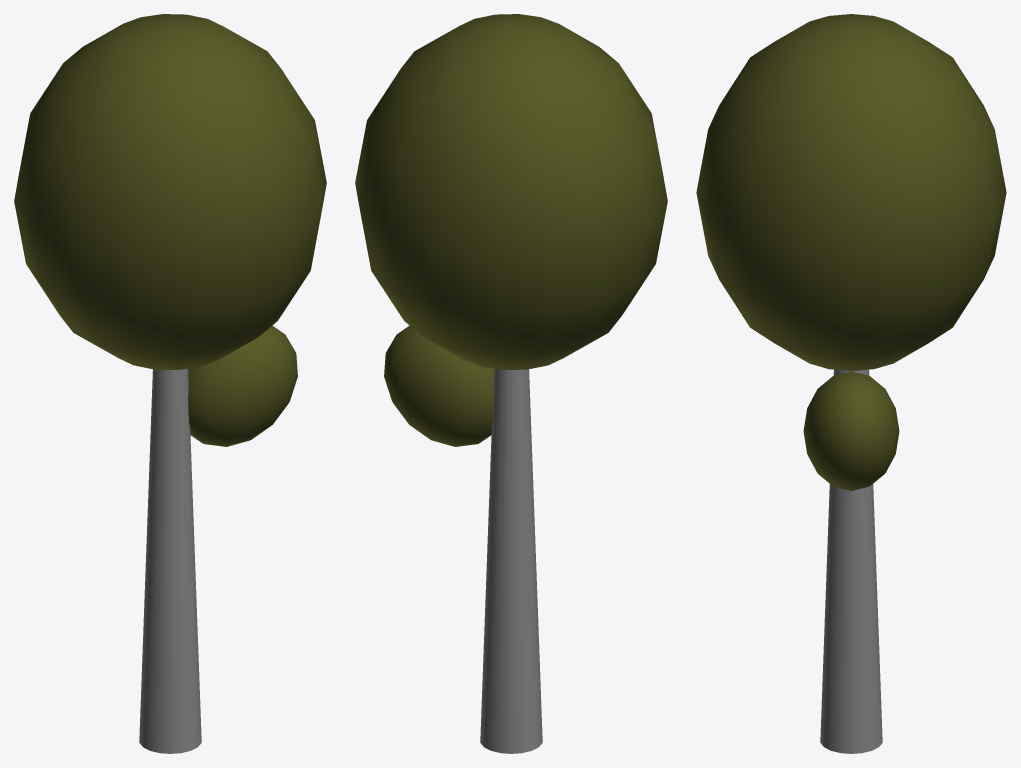
File: M_Tree_01.FBX
3 renders of one model, left to right at view 1: azimuth 30°, elevation 25°; view 2: azimuth 150°, elevation 25°; view 3: azimuth 270°, elevation 25°, orthographic.
Parts seen in each view (by area): view 1: Tree01; view 2: Tree01; view 3: Tree01.
Part boxes in pixels (left/top/right/bottom): Tree01: left=14, top=14, right=326, bottom=753; Tree01: left=355, top=14, right=667, bottom=753; Tree01: left=696, top=14, right=1006, bottom=753.
Size of the model in its own units: 2.68 by 2.63 by 6.66.
